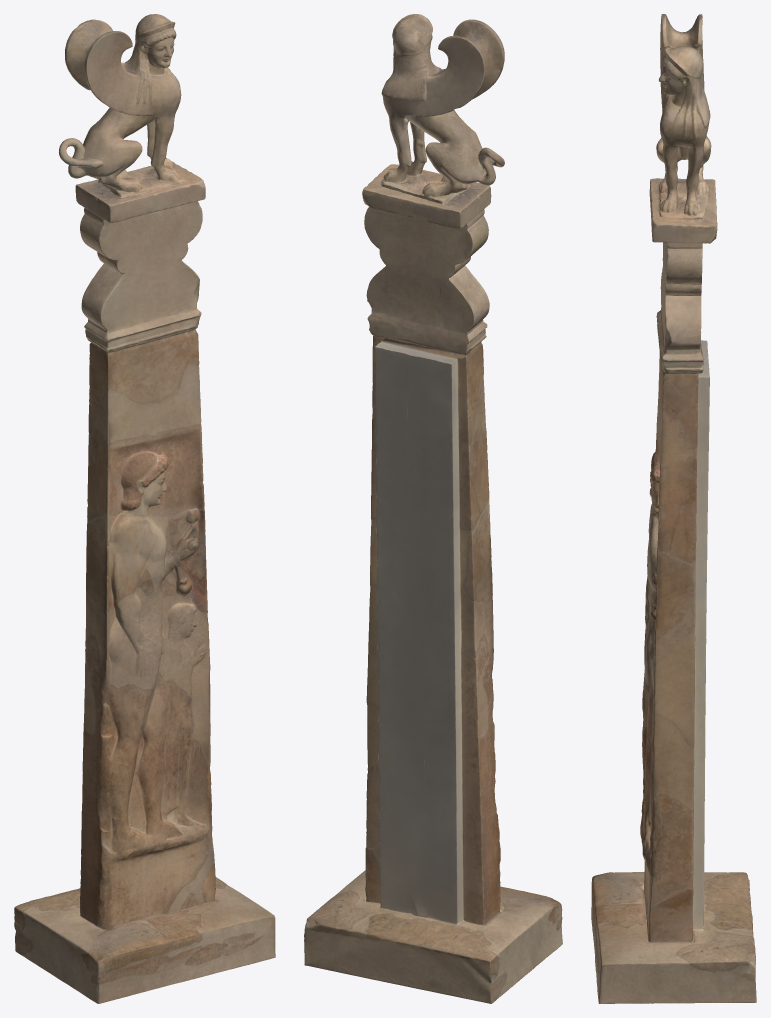
File: location-model-02.glb
3 views of the same model, side by side, from view 1: azimuth 30°, elevation 25°; view 2: azimuth 150°, elevation 25°; view 3: azimuth 270°, elevation 25° (orthographic).
Visible parts, largest first — view 1: Stele_Fix_10m_Stele_Fix_10m_material_0_001_n3d; view 2: Stele_Fix_10m_Stele_Fix_10m_material_0_001_n3d; view 3: Stele_Fix_10m_Stele_Fix_10m_material_0_001_n3d.
Part boxes in pixels (x1,y1,x2,y2): Stele_Fix_10m_Stele_Fix_10m_material_0_001_n3d: [14, 14, 275, 1003]; Stele_Fix_10m_Stele_Fix_10m_material_0_001_n3d: [304, 14, 562, 1003]; Stele_Fix_10m_Stele_Fix_10m_material_0_001_n3d: [591, 14, 756, 1003].
Bounding box in the file's own units: 0.8936 × 4.24 × 0.6874.
1 material, 1 textured.
